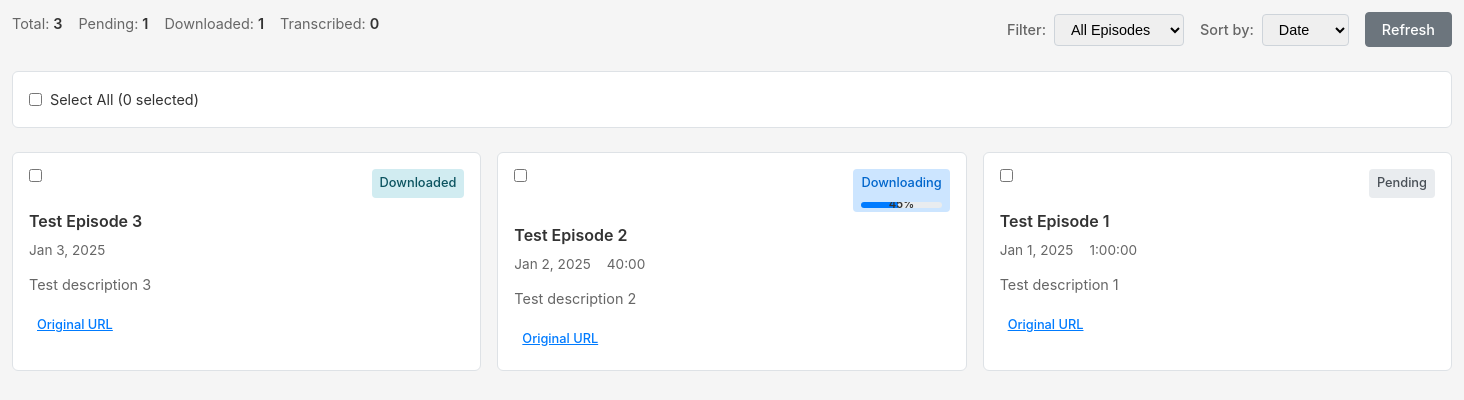
EpisodeList › handles episode selection
The width and height of the screenshot is (1464, 400).
Click the 2nd checkbox at (36, 176), box [29, 169, 42, 182]
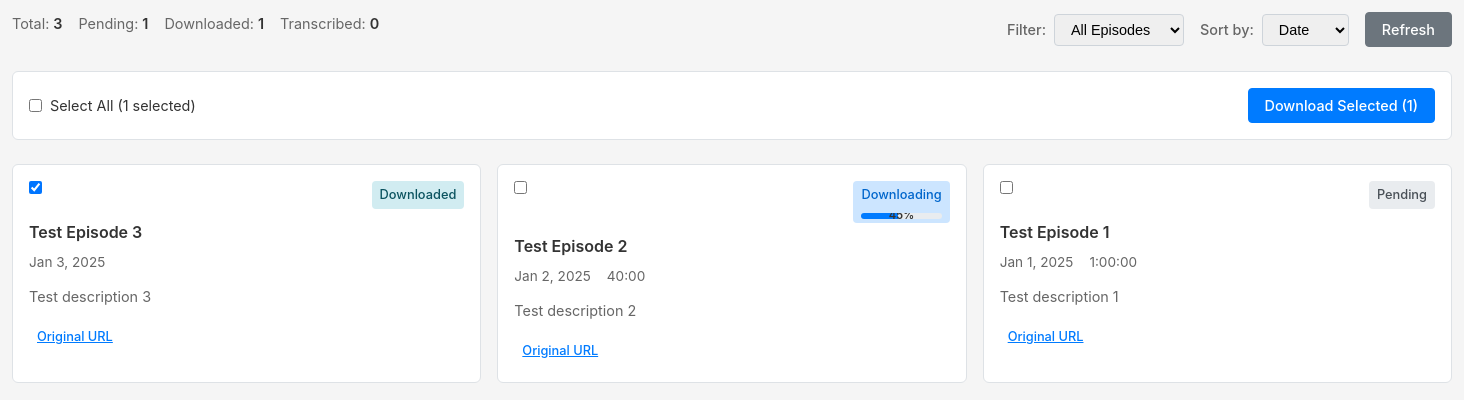
Expected: the text "Select All (1 selected)" is shown, [29, 94, 196, 117]
